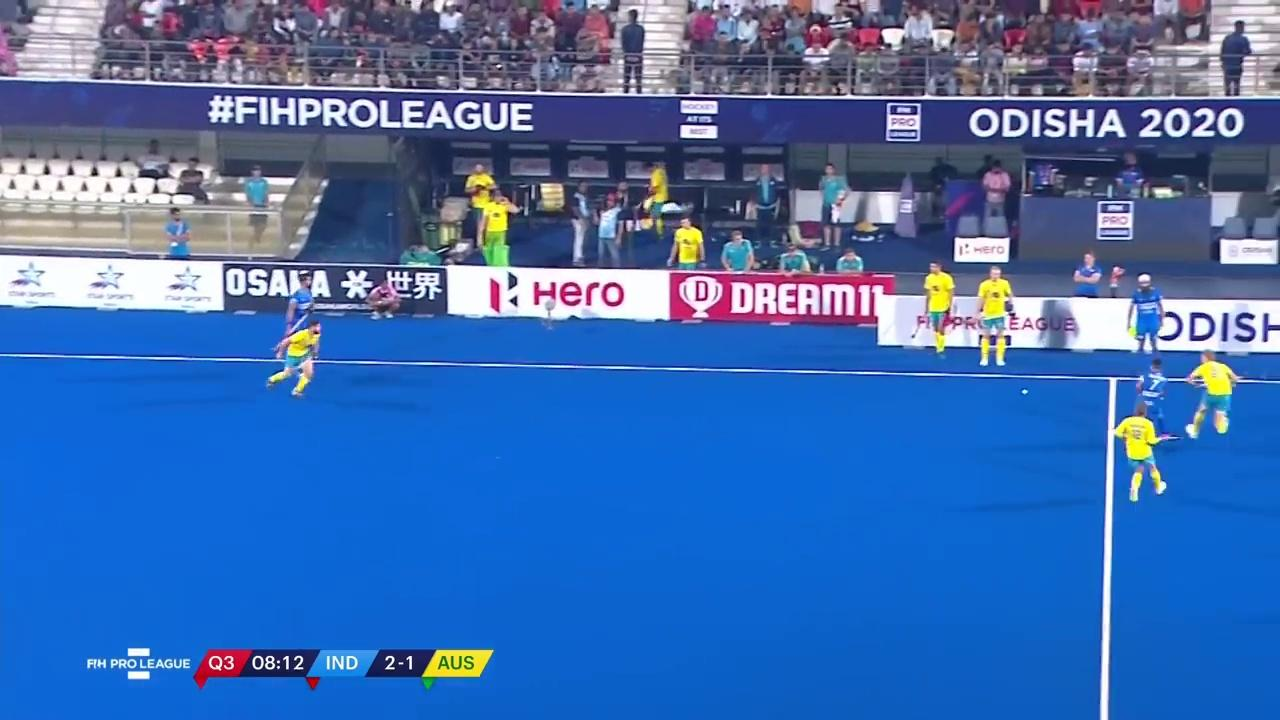ball: (1018, 385, 1031, 397)
